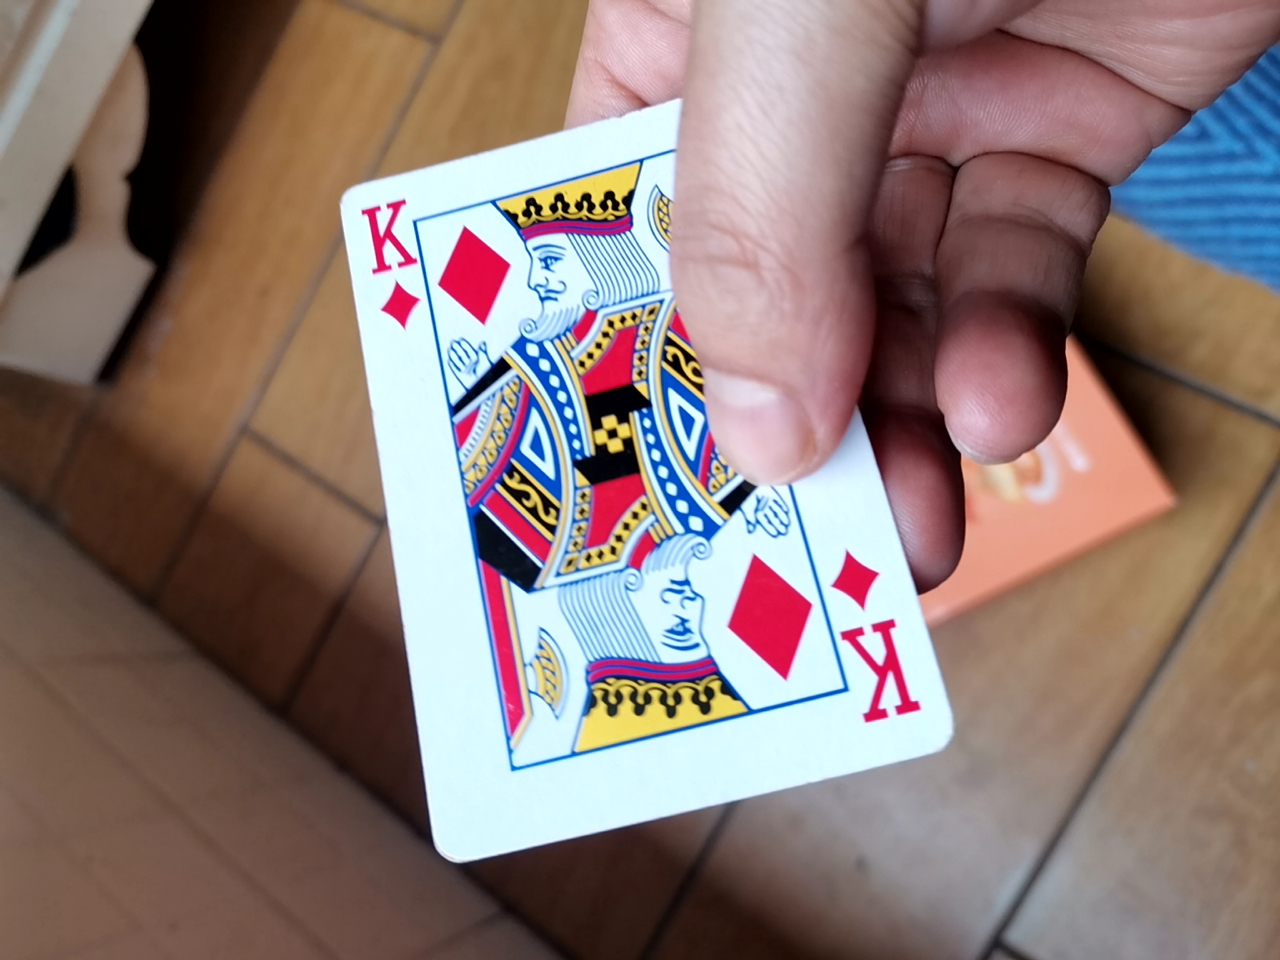fk k: (342, 89, 948, 895)
